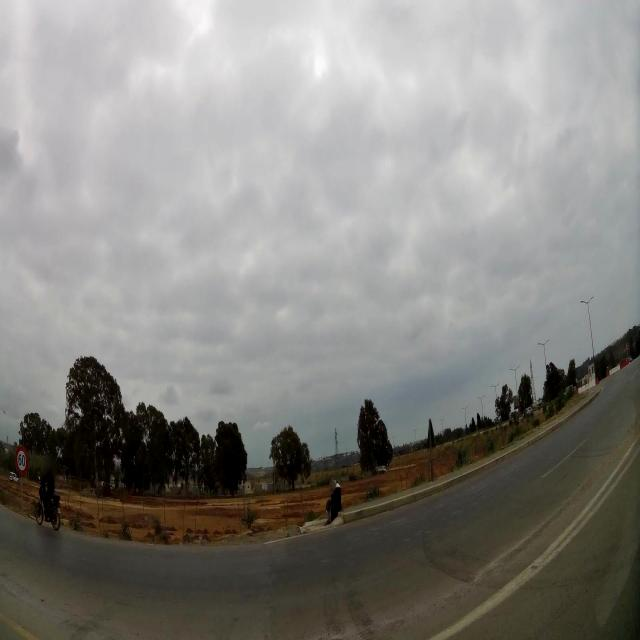bike: (36, 482, 60, 530)
